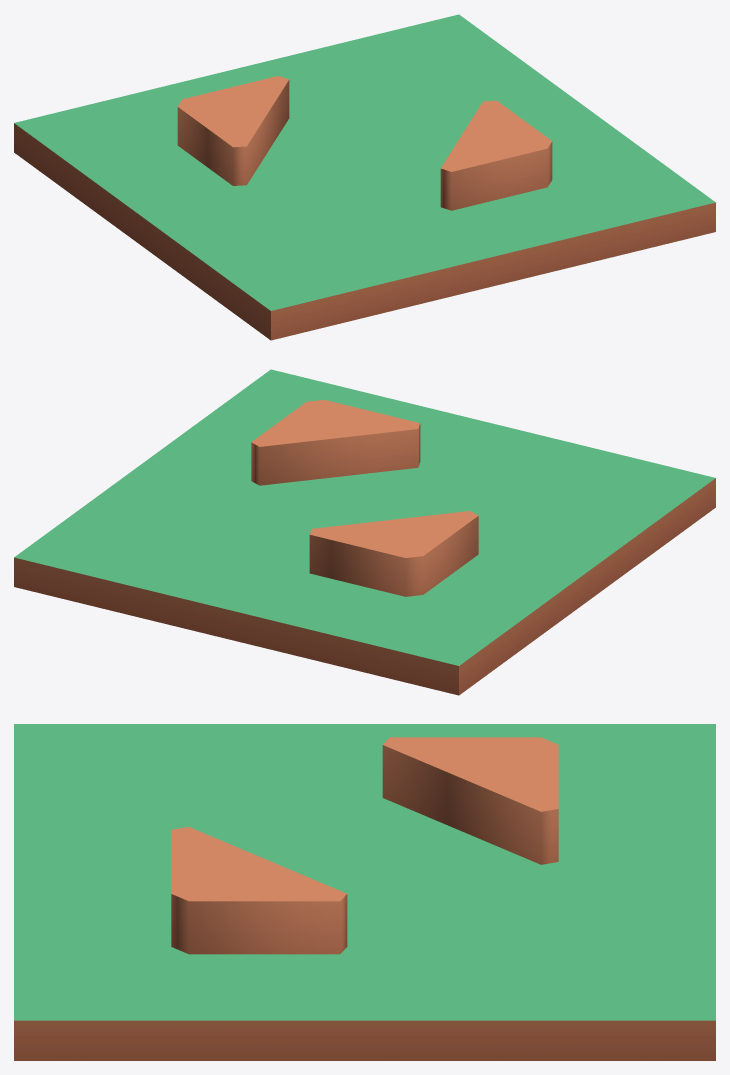
The model's file is obstacle-triangle.glb.
The picture shows the model from 3 angles, top to bottom: view 1: azimuth 30°, elevation 25°; view 2: azimuth 150°, elevation 25°; view 3: azimuth 270°, elevation 25°; orthographic projection. The views are drawn at different scales.
Parts seen in each view (by area): view 1: obstacle-triangle; view 2: obstacle-triangle; view 3: obstacle-triangle.
Part boxes in pixels (<box>): obstacle-triangle: <box>14,14,715,340</box>; obstacle-triangle: <box>14,369,715,695</box>; obstacle-triangle: <box>14,724,715,1060</box>.
Size of the model in its own units: 0.9999 by 0.1467 by 0.9999.
Materials: 1 (1 with a texture image).
